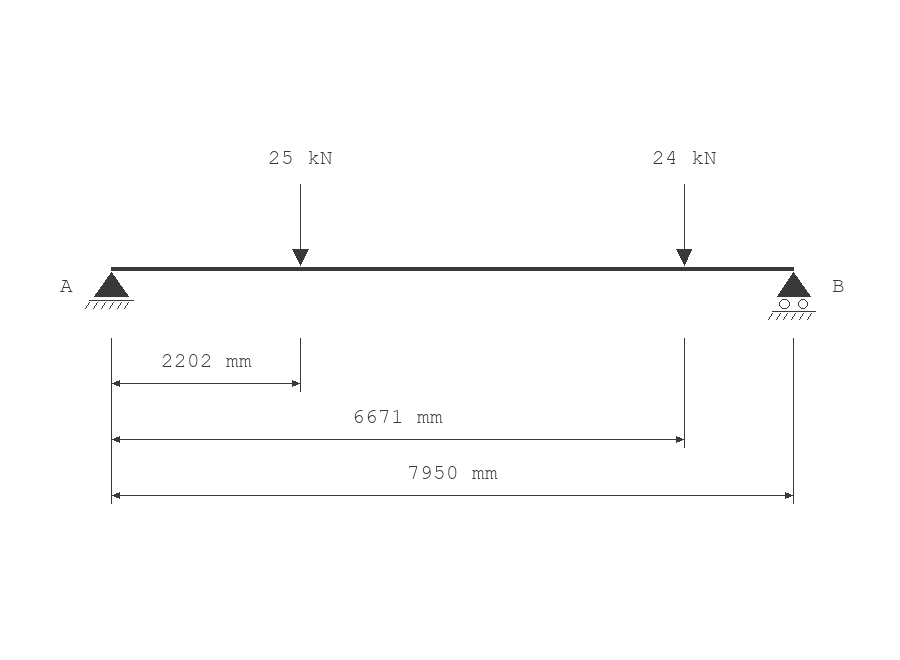pin_support: (85, 272, 134, 309)
point_load: (292, 184, 309, 266), (676, 184, 692, 266)
roller_support: (768, 272, 816, 320)
